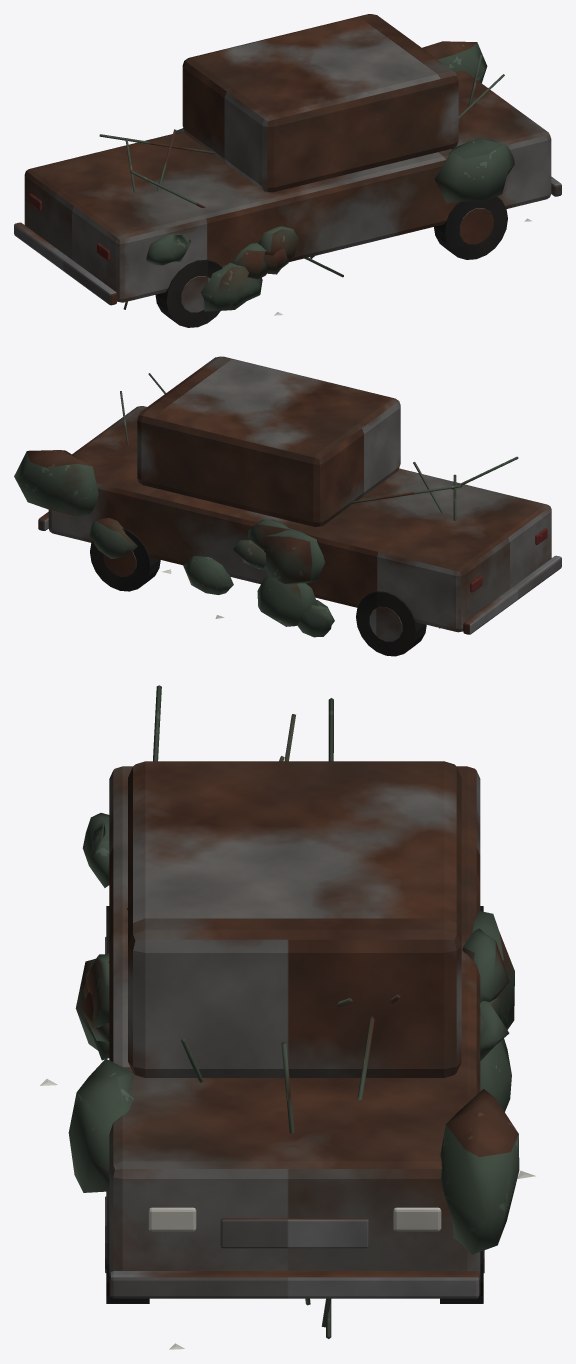
The model's file is JV06_rusted_overgrown_car_v1.glb.
The picture shows the model from 3 angles, top to bottom: view 1: azimuth 30°, elevation 25°; view 2: azimuth 150°, elevation 25°; view 3: azimuth 270°, elevation 25°; orthographic projection. The views are drawn at different scales.
Visible parts, largest first — view 1: JV06_rusted_overgrown_car_v1; view 2: JV06_rusted_overgrown_car_v1; view 3: JV06_rusted_overgrown_car_v1.
Part boxes in pixels (<box>): JV06_rusted_overgrown_car_v1: <box>14,14,561,327</box>; JV06_rusted_overgrown_car_v1: <box>14,356,561,656</box>; JV06_rusted_overgrown_car_v1: <box>40,685,535,1349</box>.
Bounding box in the file's own units: 4.4 × 1.63 × 2.08.
Materials: 7 (7 with a texture image).
